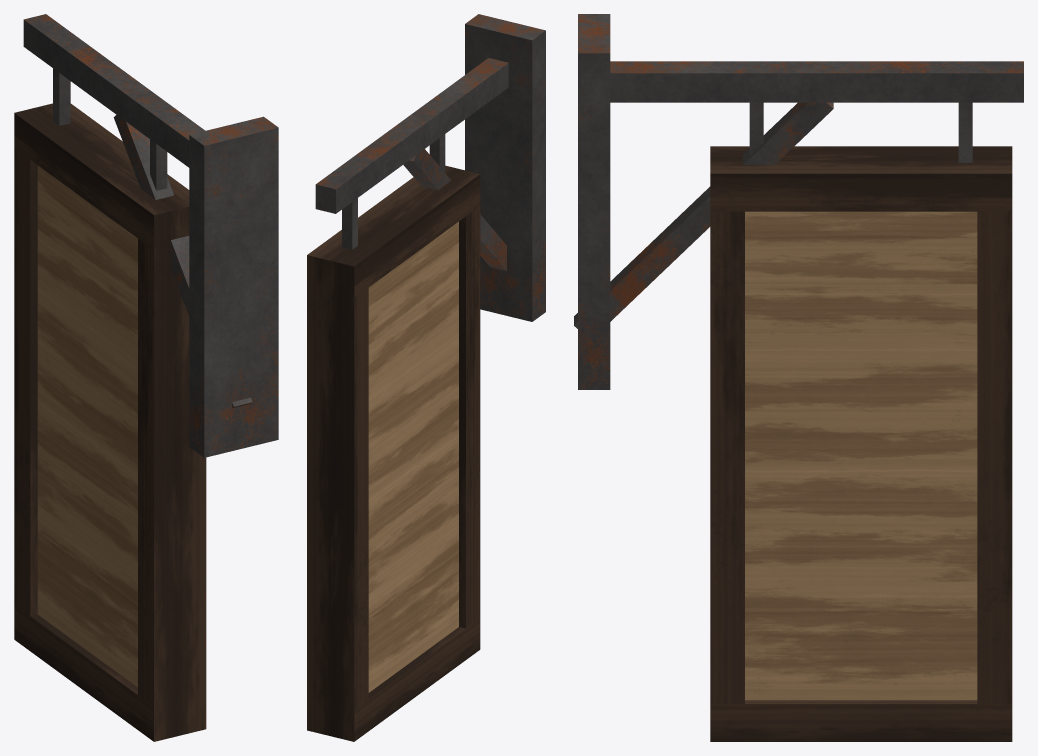
Rendered from HO_Prop_Signboard_Hanging.fbx.
3 renders of one model, left to right at view 1: azimuth 30°, elevation 25°; view 2: azimuth 150°, elevation 25°; view 3: azimuth 270°, elevation 25°, orthographic. The views are drawn at different scales.
Visible parts, largest first — view 1: HO_Prop_Signboard_Hanging, HO_Prop_Signboard_Hanging_Face; view 2: HO_Prop_Signboard_Hanging, HO_Prop_Signboard_Hanging_Face; view 3: HO_Prop_Signboard_Hanging_Face, HO_Prop_Signboard_Hanging.
Boxes of the visible parts, x1,y1,x2,y2 form: HO_Prop_Signboard_Hanging: (14,14,278,741); HO_Prop_Signboard_Hanging_Face: (37,165,137,687); HO_Prop_Signboard_Hanging: (307,14,545,741); HO_Prop_Signboard_Hanging_Face: (368,222,458,692); HO_Prop_Signboard_Hanging_Face: (745,211,977,700); HO_Prop_Signboard_Hanging: (574,14,1023,741).
Size of the model in its own units: 0.4 by 3.3 by 1.94.
